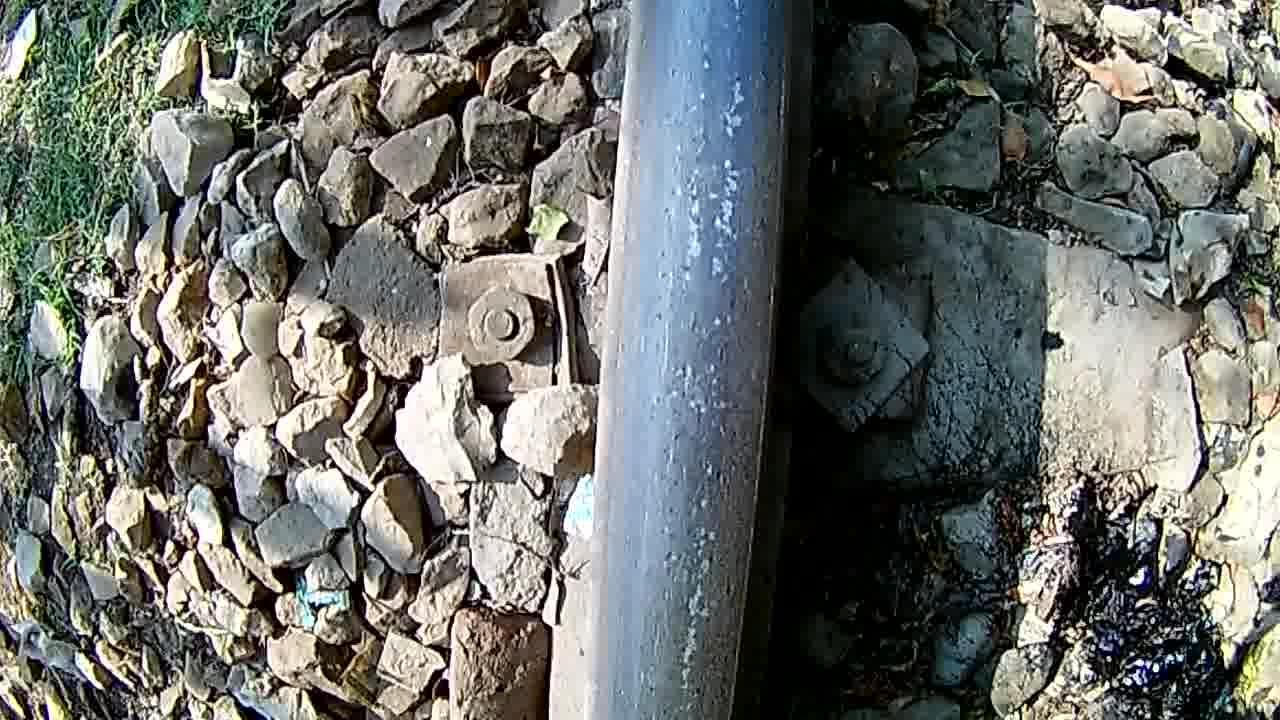crack: (602, 3, 801, 720)
